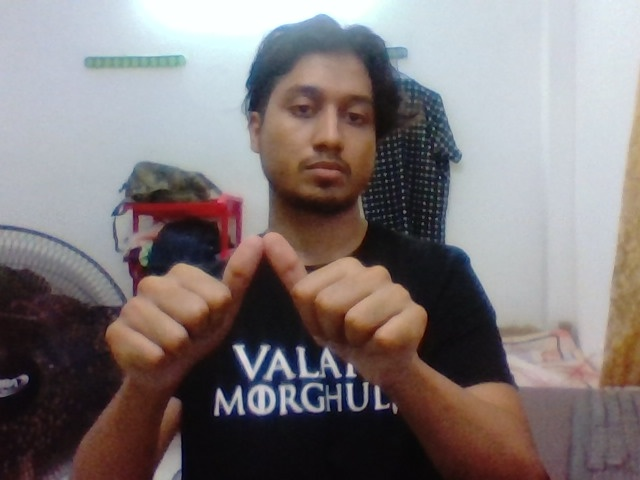A: (94, 198, 448, 389)
